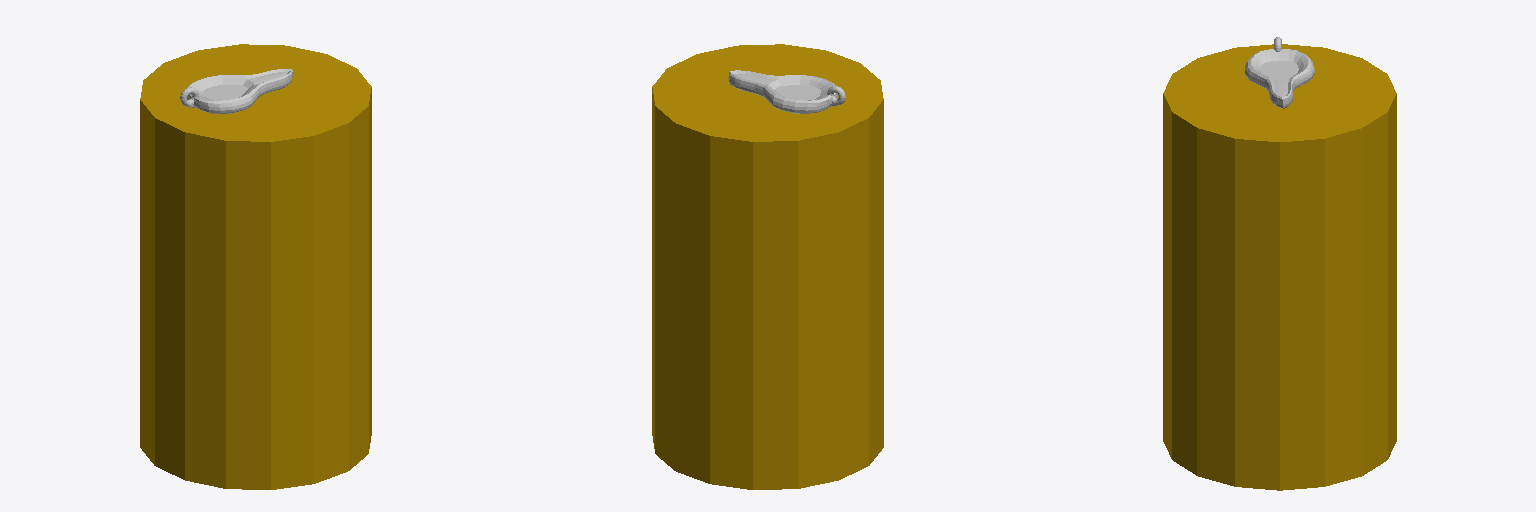
The model's file is scene_vide2.obj.
The picture shows the model from 3 angles: view 1: azimuth 30°, elevation 25°; view 2: azimuth 150°, elevation 25°; view 3: azimuth 270°, elevation 25°; orthographic projection.
Visible parts, largest first — view 1: Cylinder_1, WSVJoinedMesh; view 2: Cylinder_1, WSVJoinedMesh; view 3: Cylinder_1, WSVJoinedMesh.
Part boxes in pixels (left/top/right/bottom): Cylinder_1: left=140, top=44, right=371, bottom=489; WSVJoinedMesh: left=180, top=69, right=292, bottom=113; Cylinder_1: left=652, top=44, right=883, bottom=489; WSVJoinedMesh: left=728, top=70, right=845, bottom=113; Cylinder_1: left=1163, top=44, right=1396, bottom=490; WSVJoinedMesh: left=1245, top=37, right=1314, bottom=108.
Bounding box in the file's own units: 2.46 × 4.31 × 2.46.